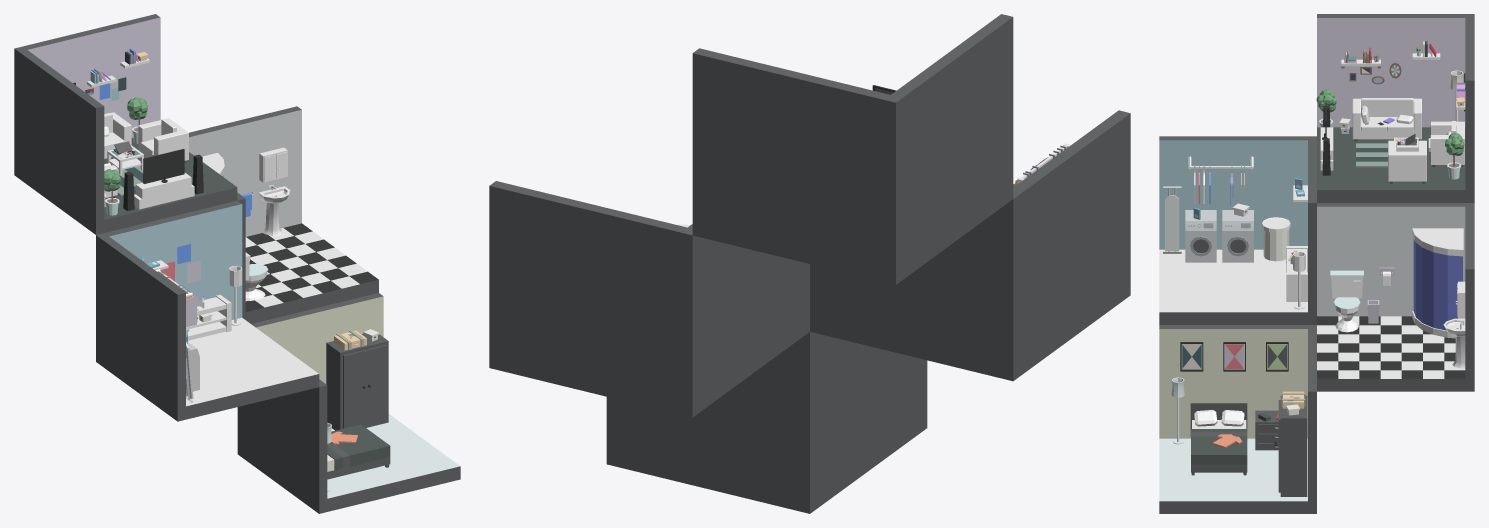
File: room.fbx
3 renders of one model, left to right at view 1: azimuth 30°, elevation 25°; view 2: azimuth 150°, elevation 25°; view 3: azimuth 270°, elevation 25°, orthographic. The views are drawn at different scales.
Parts seen in each view (by area): view 1: Lavadero, Sala, Pieza, Baño, ropero_caja, Cama_Colchon, pCube77, pCube114, pCube32, pCylinder6, pCube113, pCube112 (+2 smaller); view 2: Sala, Baño, Lavadero, Pieza; view 3: Lavadero, Baño, Sala, Pieza, pPlane5, ropero_caja, Cama_Colchon, pCube77, pCube34, pCube35, pCylinder9, pCube92 (+16 smaller).
Boxes of the visible parts, left/top/right/bottom form: Lavadero: left=96, top=200, right=319, bottom=421; Sala: left=14, top=14, right=237, bottom=234; Pieza: left=237, top=293, right=460, bottom=513; Baño: left=189, top=106, right=378, bottom=323; ropero_caja: left=326, top=334, right=388, bottom=430; Cama_Colchon: left=327, top=424, right=390, bottom=471; pCube77: left=138, top=118, right=188, bottom=160; pCube114: left=143, top=149, right=184, bottom=183; pCube32: left=259, top=147, right=287, bottom=182; pCylinder6: left=258, top=186, right=290, bottom=235; pCube113: left=135, top=173, right=191, bottom=199; pCube112: left=134, top=184, right=194, bottom=209; Sala: left=692, top=14, right=1013, bottom=284; Baño: left=489, top=181, right=809, bottom=417; Lavadero: left=810, top=110, right=1130, bottom=381; Pieza: left=606, top=332, right=927, bottom=513; Lavadero: left=1159, top=136, right=1316, bottom=324; Baño: left=1317, top=203, right=1474, bottom=391; Sala: left=1317, top=14, right=1474, bottom=202; Pieza: left=1159, top=325, right=1316, bottom=513; pPlane5: left=1413, top=239, right=1462, bottom=330; ropero_caja: left=1278, top=395, right=1307, bottom=496; Cama_Colchon: left=1191, top=420, right=1247, bottom=465; pCube77: left=1388, top=140, right=1426, bottom=181; pCube34: left=1185, top=210, right=1216, bottom=262; pCube35: left=1222, top=210, right=1253, bottom=262; pCylinder9: left=1412, top=228, right=1463, bottom=256; pCube92: left=1352, top=98, right=1421, bottom=139.
Size of the model in its own units: 6.99 by 8.99 by 6.99.
Materials: 1 (1 with a texture image).
